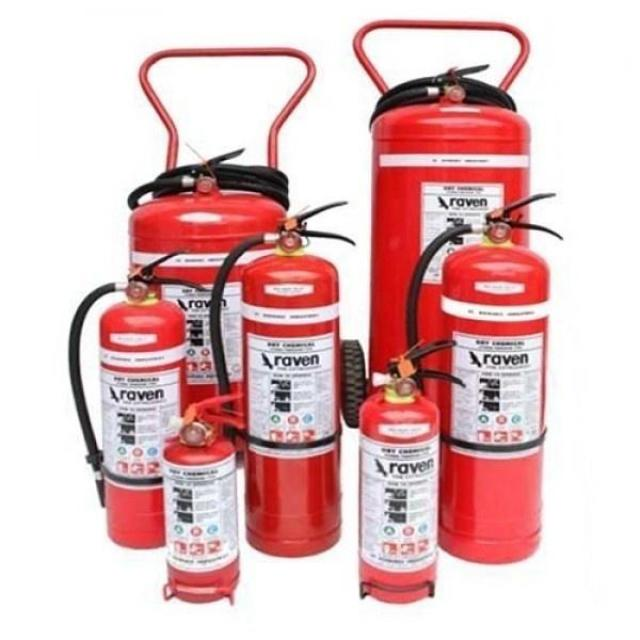fire_extinguisher: (362, 64, 538, 465), (399, 190, 568, 569), (116, 143, 295, 486), (202, 197, 361, 562), (61, 245, 214, 554), (350, 331, 463, 609), (152, 386, 250, 610)
